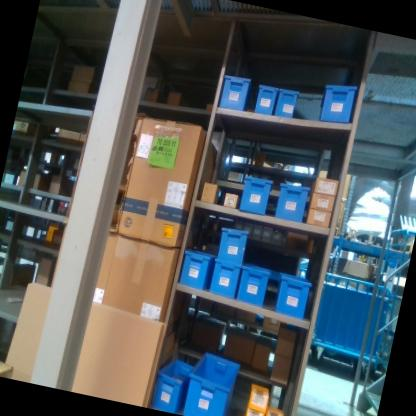small_load_carrier: (180, 342, 244, 416), (148, 350, 198, 415), (316, 78, 359, 129), (272, 272, 312, 319), (202, 257, 245, 299), (232, 263, 271, 309), (177, 247, 212, 291), (237, 173, 272, 217), (274, 184, 309, 224), (215, 224, 249, 263), (218, 72, 251, 111), (270, 84, 300, 122), (252, 81, 280, 121)
